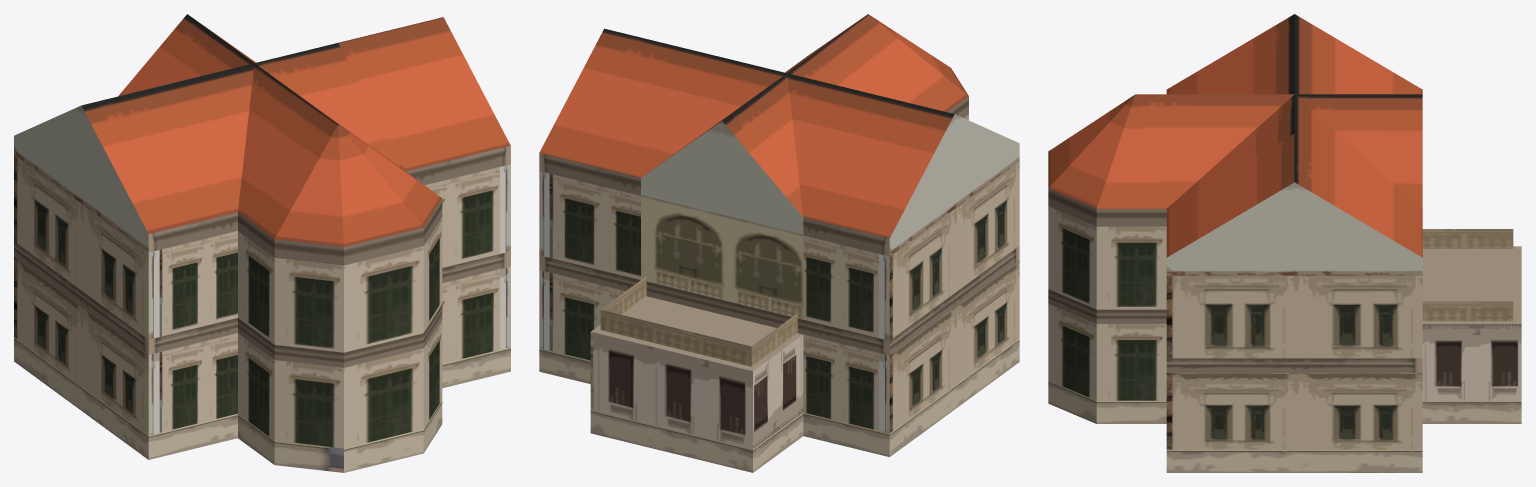
The model's file is SM_Building_ColonialHouse_01.fbx.
The picture shows the model from 3 angles, left to right: view 1: azimuth 30°, elevation 25°; view 2: azimuth 150°, elevation 25°; view 3: azimuth 270°, elevation 25°; orthographic projection. The views are drawn at different scales.
Visible parts, largest first — view 1: SM_Building_ColonialHouse_01; view 2: SM_Building_ColonialHouse_01; view 3: SM_Building_ColonialHouse_01.
Part boxes in pixels (bbox=[...]): SM_Building_ColonialHouse_01: bbox=[14, 14, 510, 472]; SM_Building_ColonialHouse_01: bbox=[539, 14, 1019, 472]; SM_Building_ColonialHouse_01: bbox=[1048, 14, 1521, 472].
Bounding box in the file's own units: 16.82 × 13.55 × 20.
